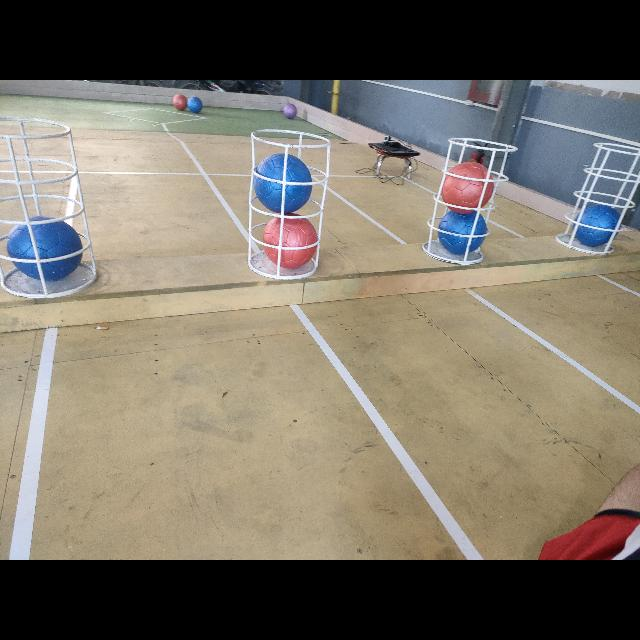B: (8, 218, 82, 282), (252, 154, 314, 212), (438, 207, 487, 256), (576, 202, 620, 245)
R: (264, 210, 316, 266), (441, 162, 494, 210)
